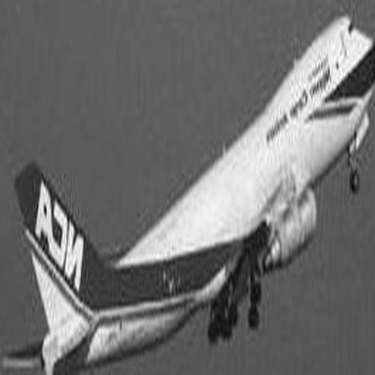airplane: (7, 2, 373, 373)
